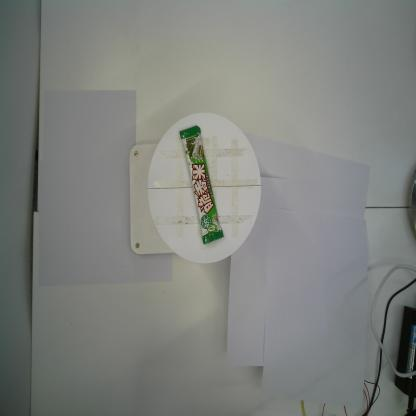Chocolate: (178, 124, 226, 249)
